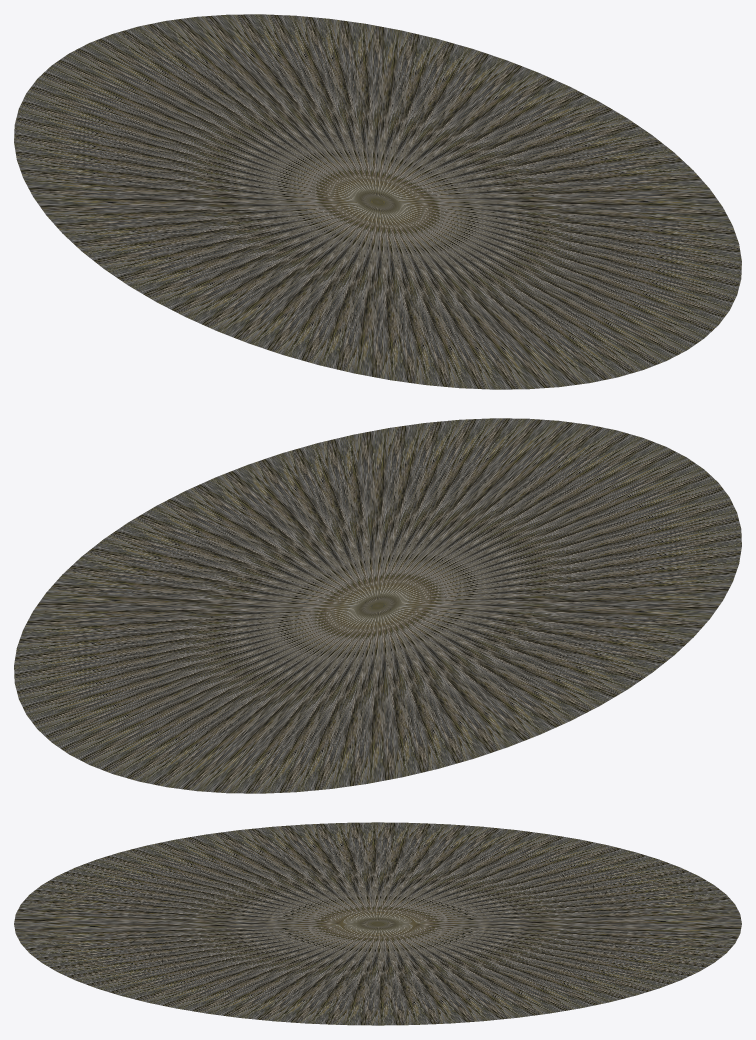
Rendered from garden_water.glb.
3 renders of one model, top to bottom at view 1: azimuth 30°, elevation 25°; view 2: azimuth 150°, elevation 25°; view 3: azimuth 270°, elevation 25°, orthographic. The views are drawn at different scales.
Parts seen in each view (by area): view 1: garden_water0; view 2: garden_water0; view 3: garden_water0.
Part boxes in pixels (x1,y1,x2,y2): garden_water0: [14, 14, 741, 389]; garden_water0: [14, 418, 741, 793]; garden_water0: [14, 822, 741, 1025].
Size of the model in its own units: 3.5 by 0 by 5.3.
1 material, 1 textured.
